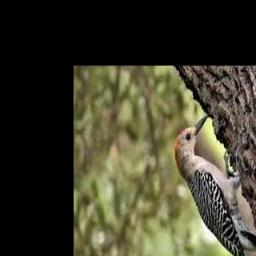Woodpecker: (174, 114, 256, 256)
